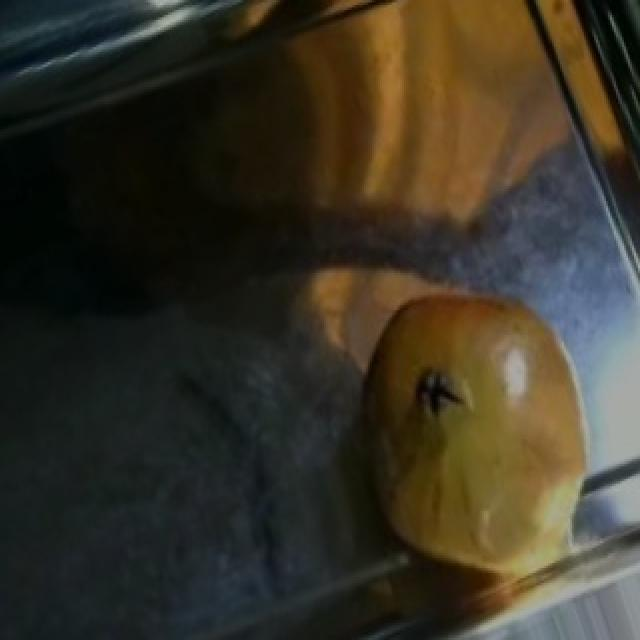fruit: (336, 255, 604, 479)
